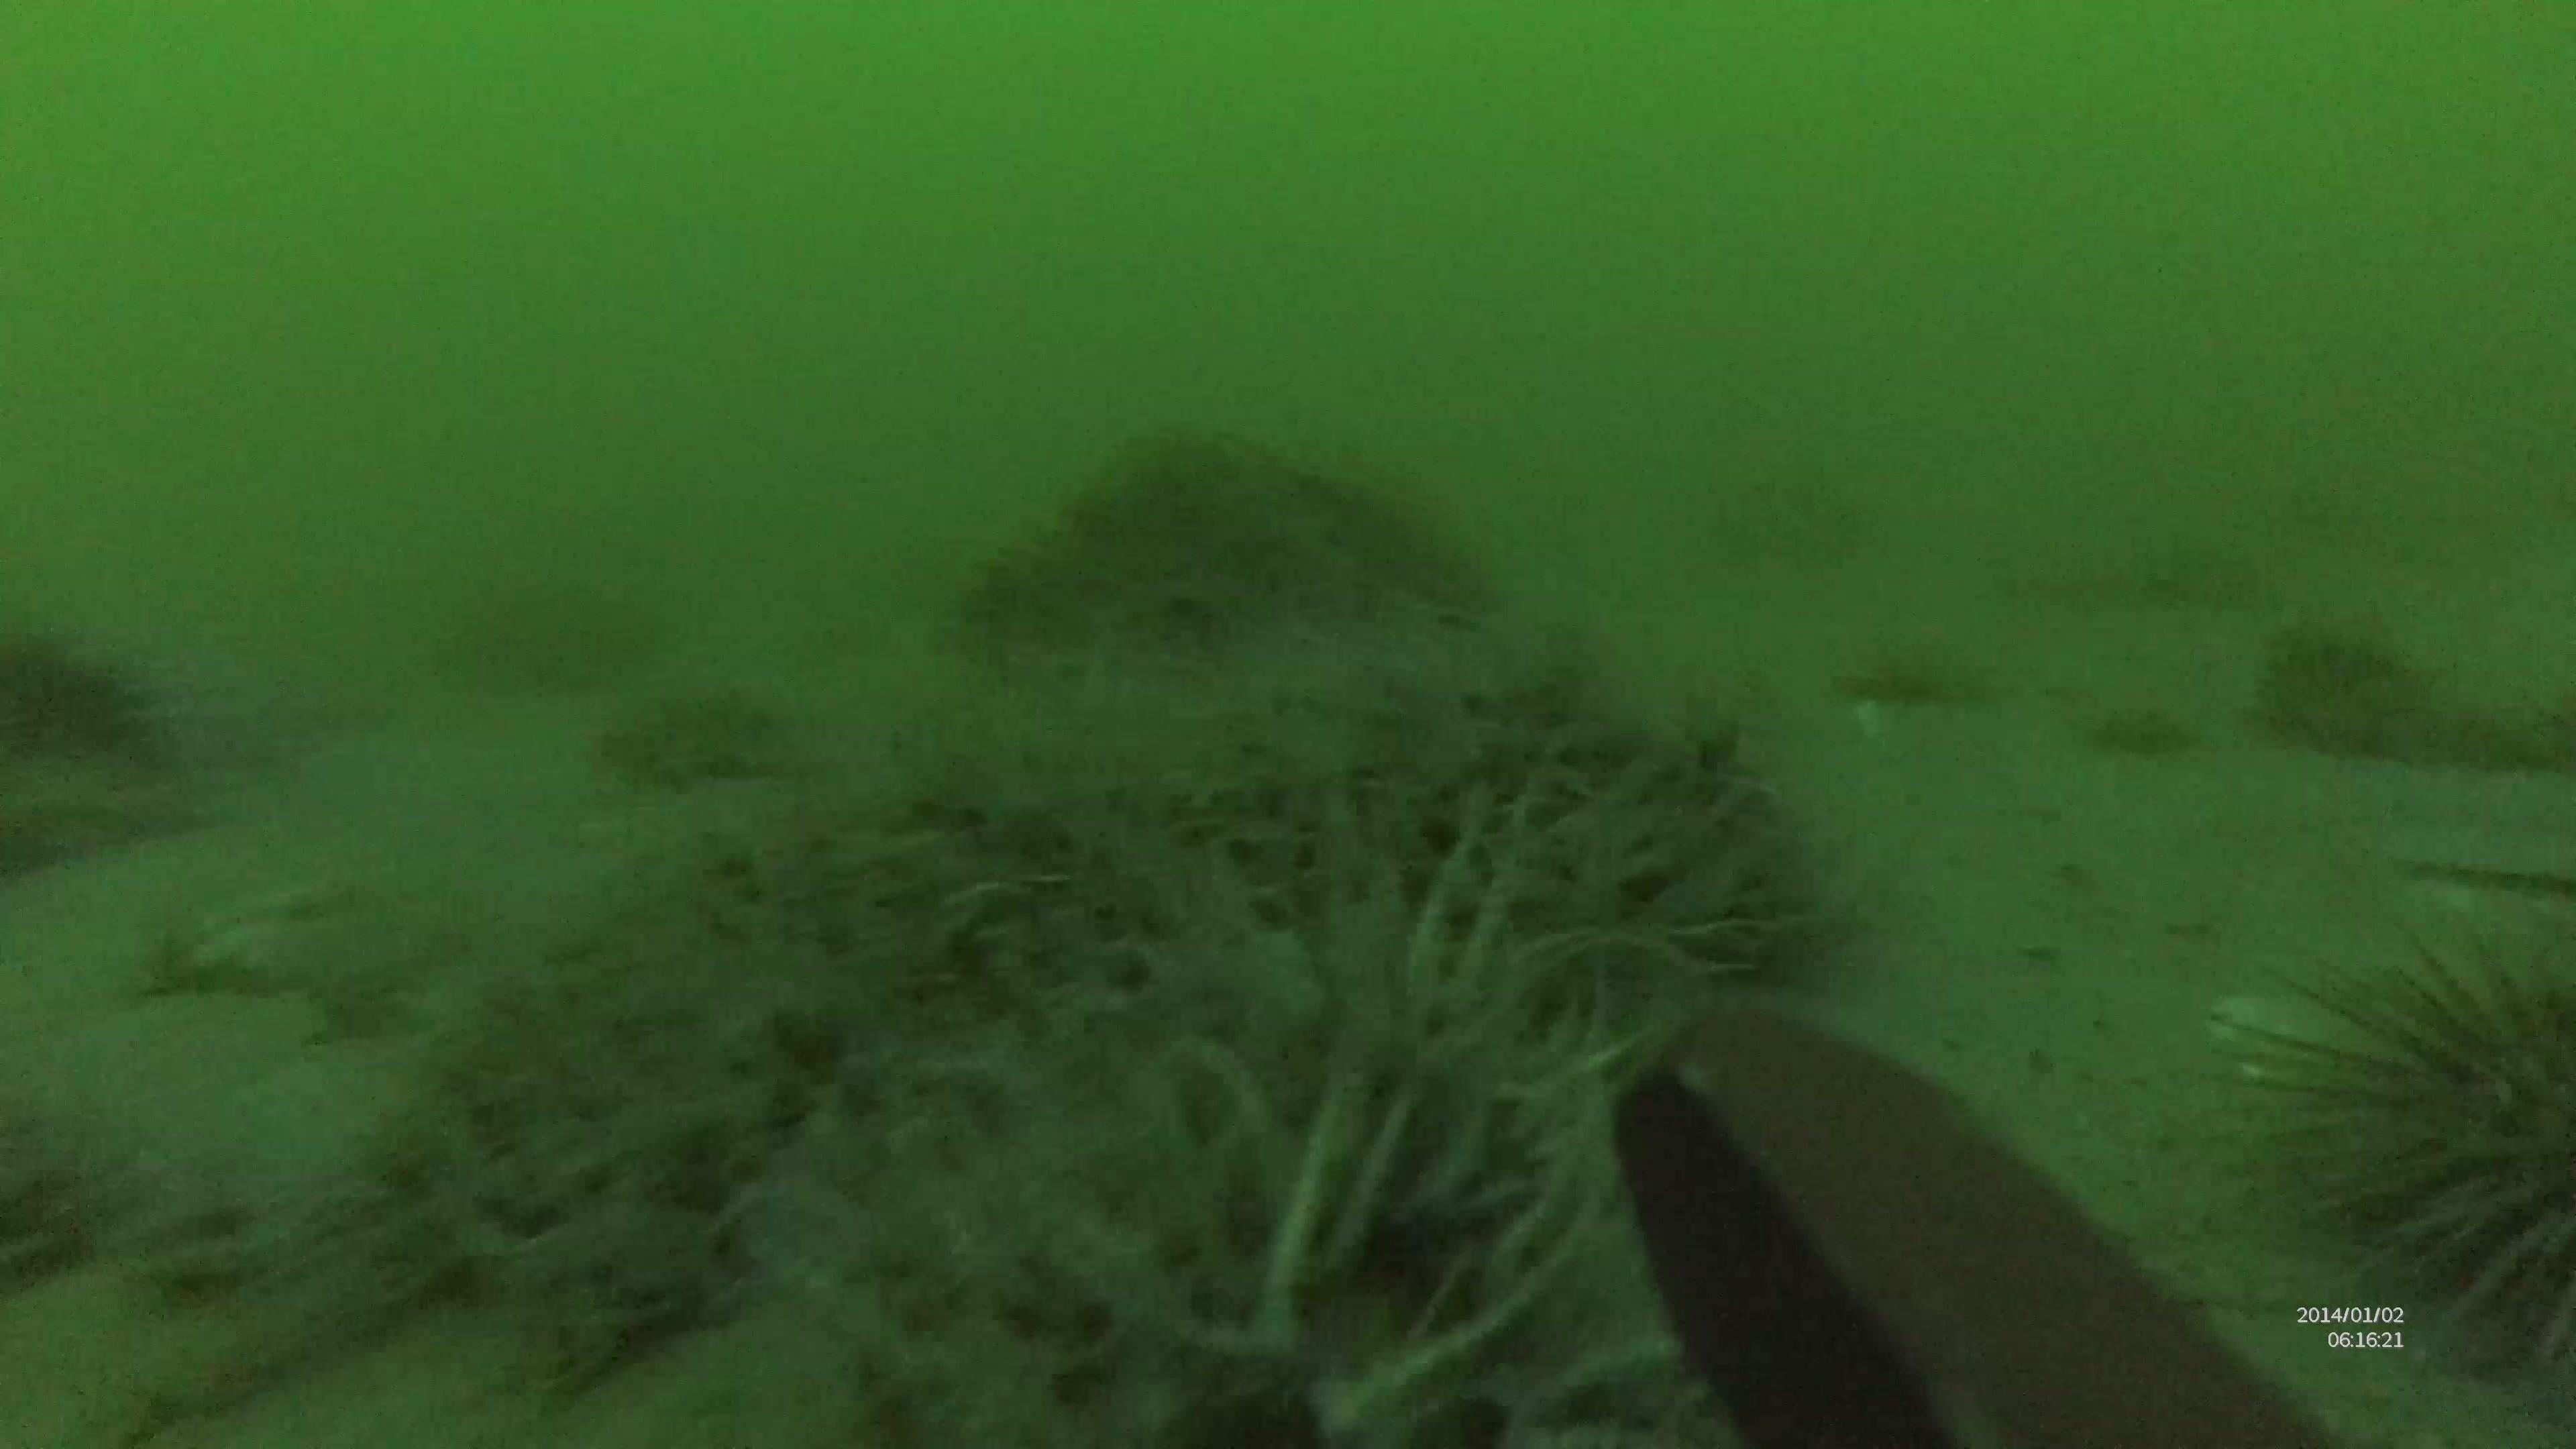echinus: (2220, 943, 2571, 1348), (2250, 625, 2433, 757)
